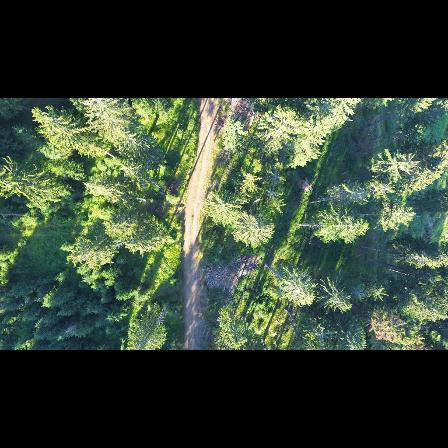Sick: (351, 285, 369, 303)
